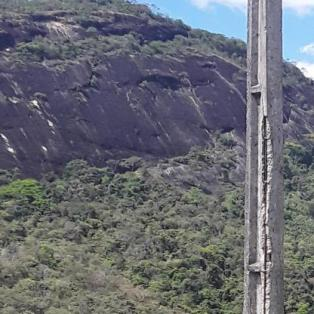Poste: (226, 4, 300, 314)
